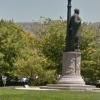Statue: (58, 6, 90, 63)
